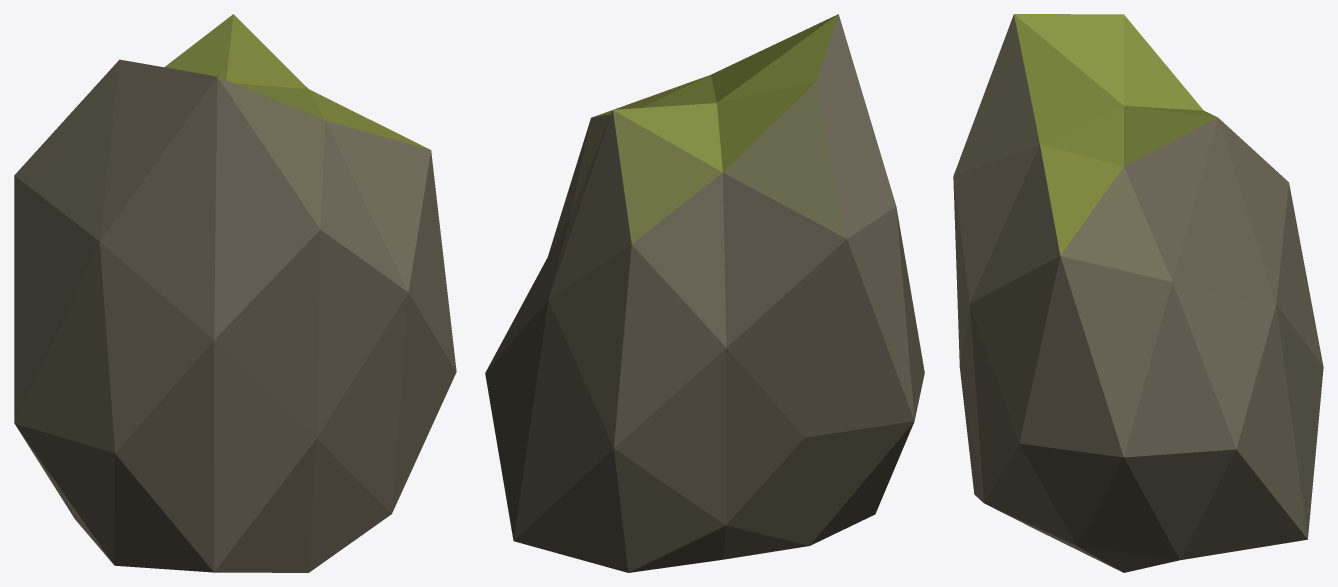
3 renders of one model, left to right at view 1: azimuth 30°, elevation 25°; view 2: azimuth 150°, elevation 25°; view 3: azimuth 270°, elevation 25°, orthographic. The views are drawn at different scales.
Parts seen in each view (by area): view 1: rock_c_solid; view 2: rock_c_solid; view 3: rock_c_solid.
Boxes of the visible parts, x1,y1,x2,y2 form: rock_c_solid: [14, 14, 456, 572]; rock_c_solid: [485, 14, 924, 572]; rock_c_solid: [953, 14, 1323, 572].
Bounding box in the file's own units: 1.8 × 2.18 × 1.54.
